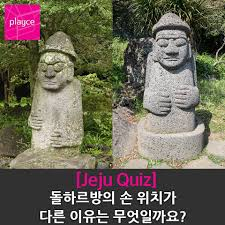Stone Statue: (132, 8, 213, 166), (13, 25, 99, 173)
